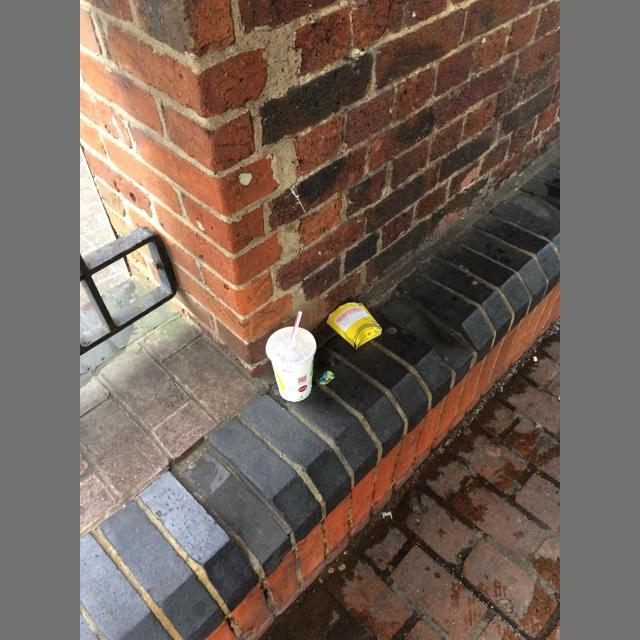litter: (266, 327, 316, 402), (326, 303, 382, 350), (266, 326, 316, 366), (289, 311, 302, 344), (319, 371, 335, 385), (382, 512, 392, 519)
